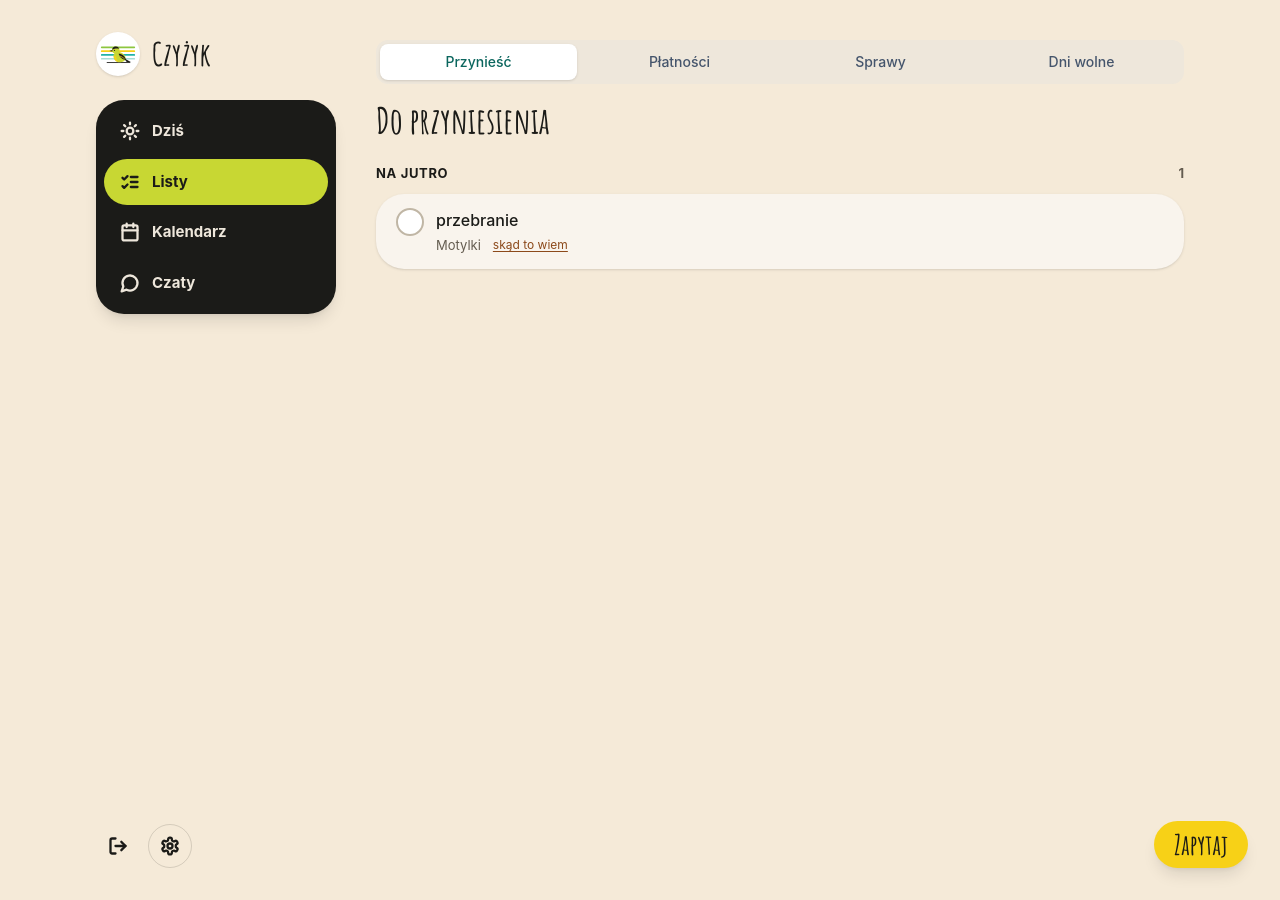
Test: Do przyniesienia › błąd zapisu jest widoczny
The image size is (1280, 900).
What coordinates should you click on to do the following:
click the checkbox named "przebranie"
I would click on:
 (410, 222)
Its box is [396,208,424,236].
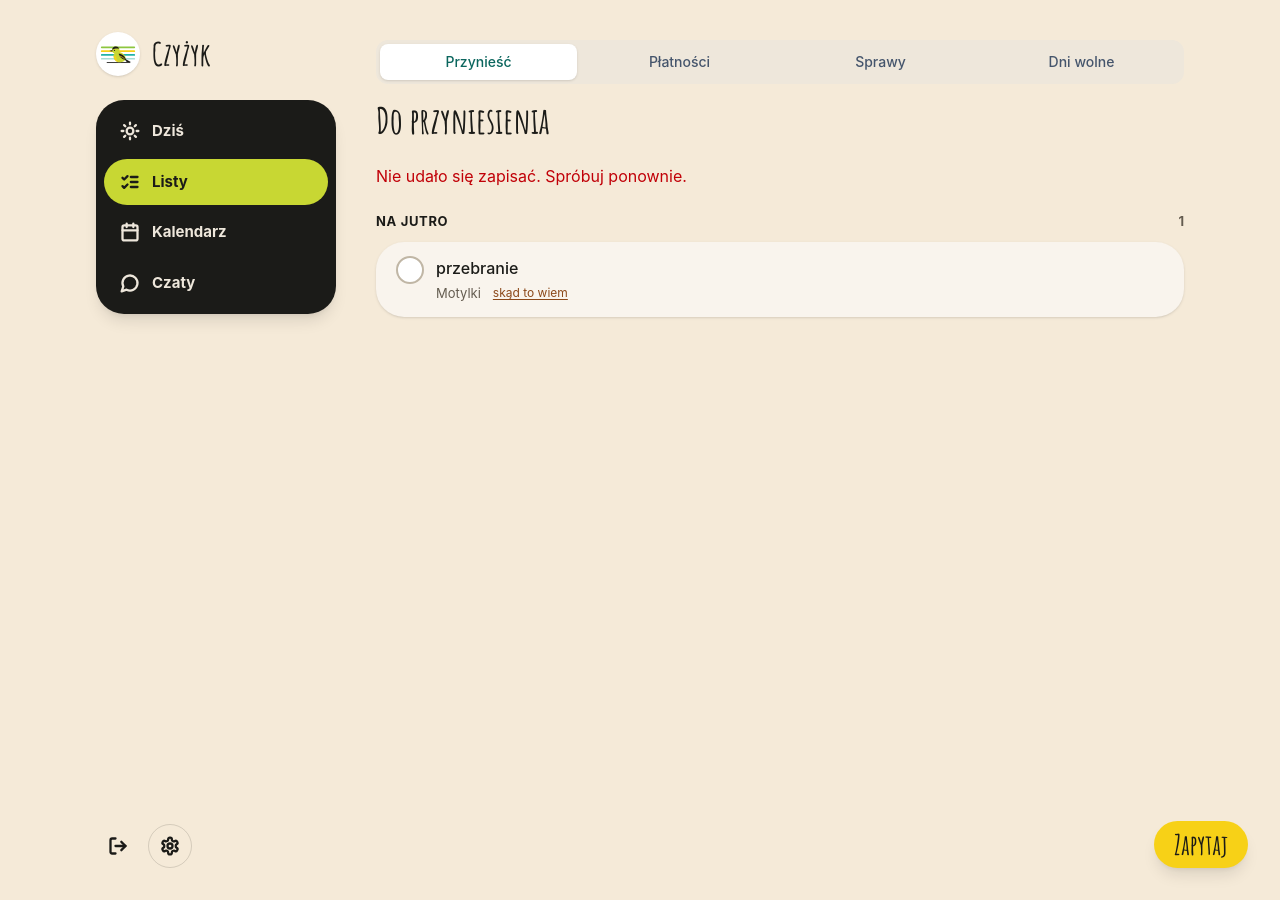
Now the message shows "Nie udało się zapisać", box [376,166,687,186]
